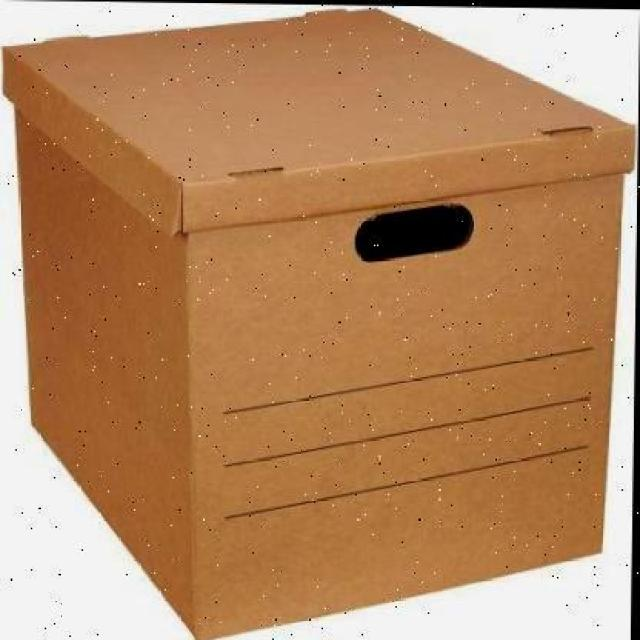box: (1, 1, 640, 640)
normal_hole: (353, 202, 475, 264)
